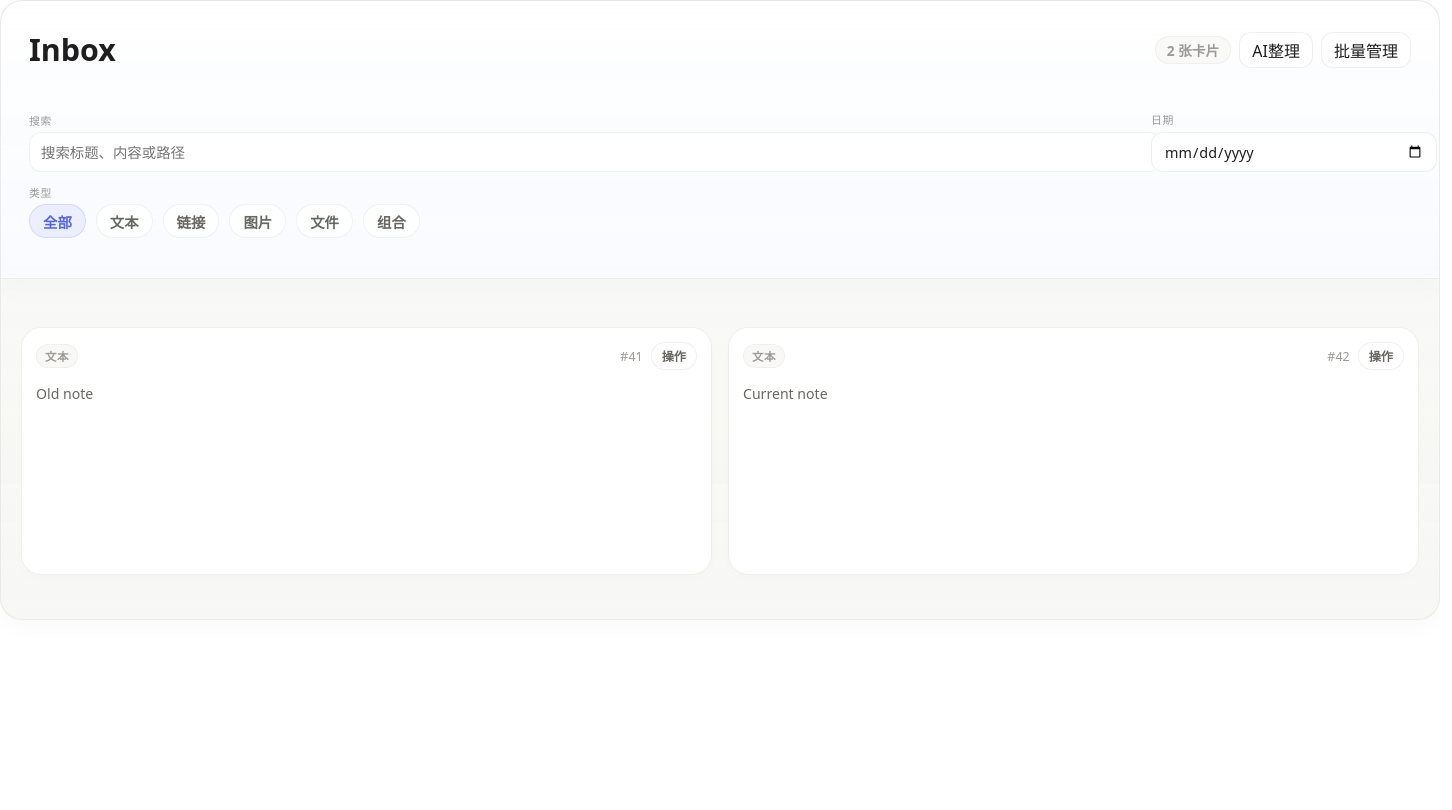
MainCanvas › filters cards by one created date
Type "2026-04-30" into the date field named "筛选日期" at [1294, 152], box [1151,132,1437,172]
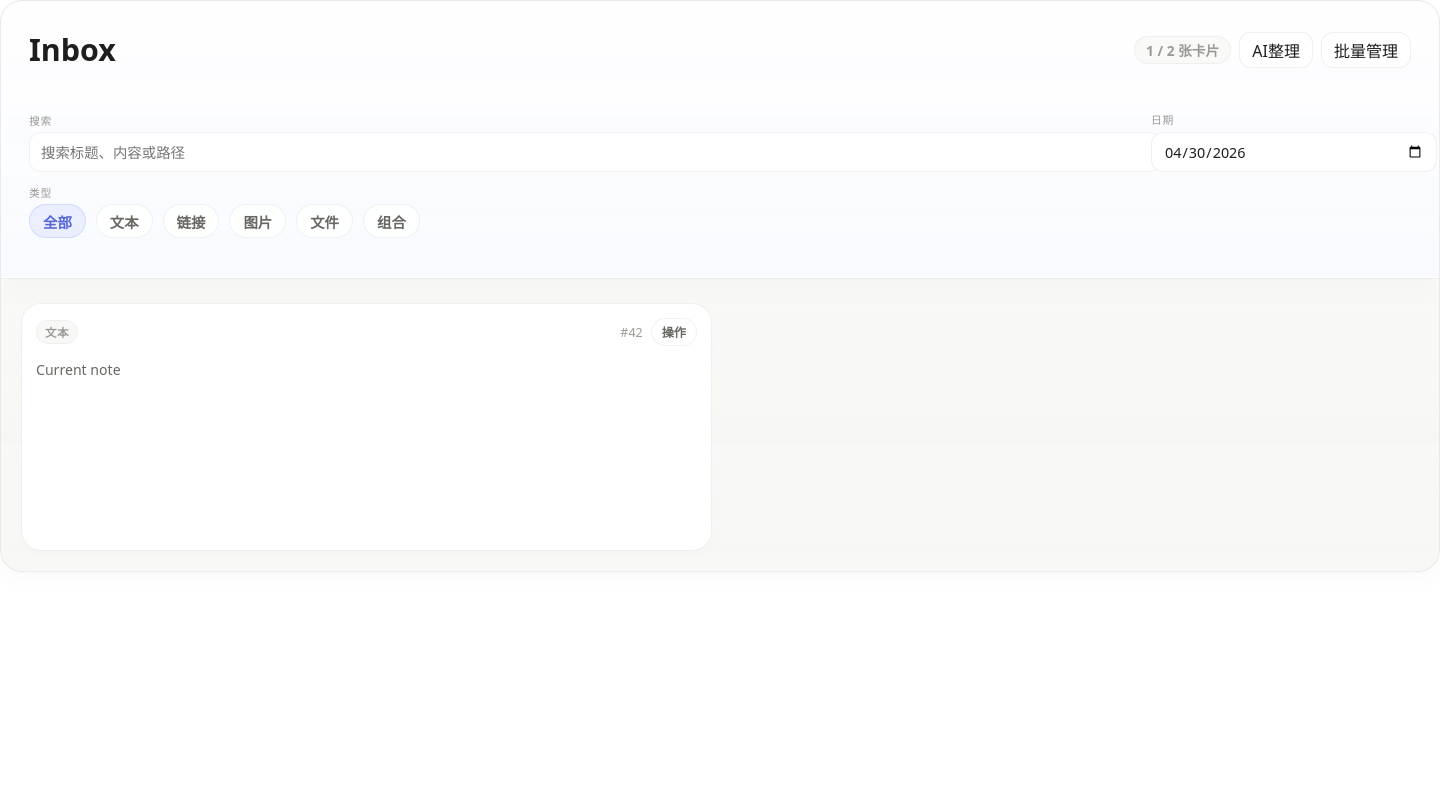
Check: the element named "卡片 Current note" is shown, box [21,303,712,551]
Check: the text "1 / 2 张卡片" is shown, box [1134,36,1231,64]
